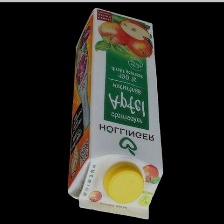carton: (62, 4, 172, 221)
